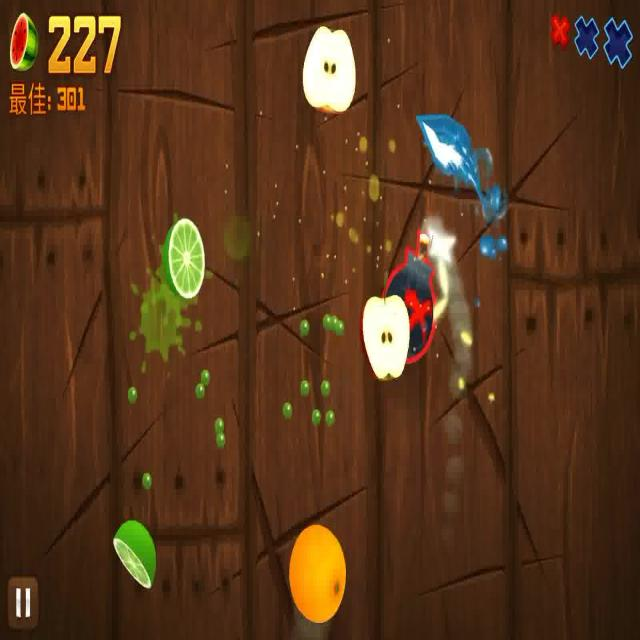bomb: (382, 218, 443, 364)
fruit: (290, 522, 346, 624), (301, 22, 355, 112), (361, 288, 410, 383), (111, 523, 157, 595), (164, 220, 204, 301)
